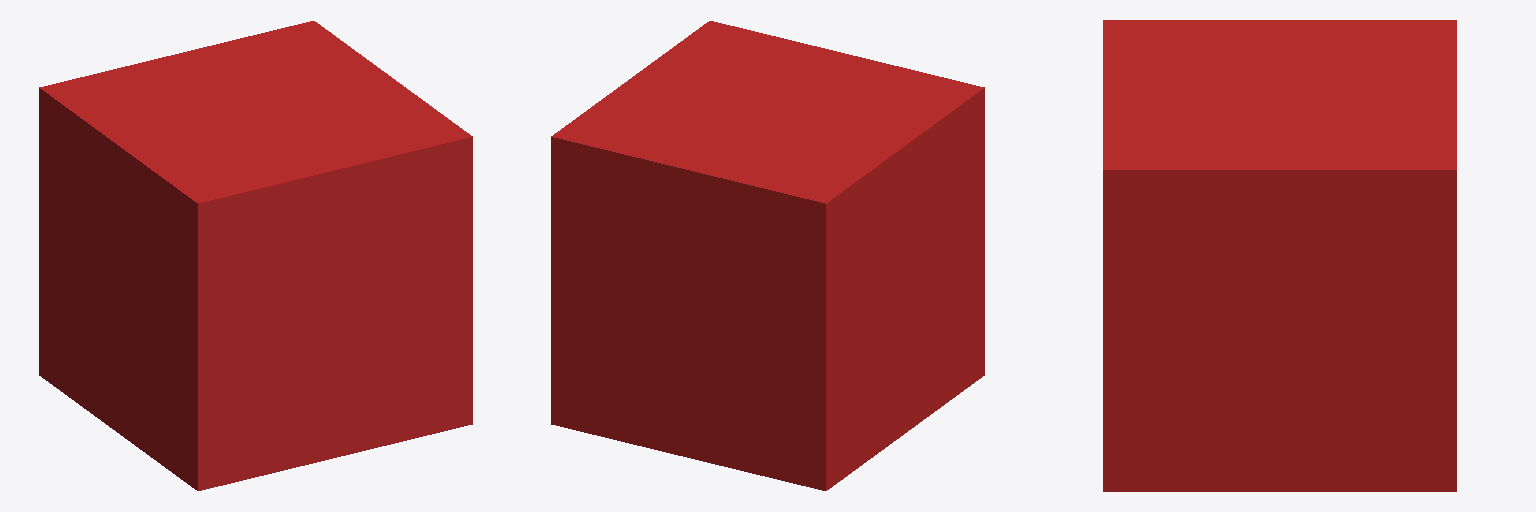
robot.urdf — box:
<?xml version="1.0" ?>
<robot name="box">
    <link name="boxLink">
        <visual>
            <origin rpy="0 0 0" xyz="0 0 0"/>
            <geometry>
                <box size="0.5 0.5 0.5"/>
            </geometry>
            <material name="red">
                <color rgba="0.8 0.2 0.2 1"/>
            </material>
        </visual>
        <collision>
            <origin rpy="0 0 0" xyz="0 0 0"/>
            <geometry>
                <box size="0.5 0.5 0.5"/>
            </geometry>
        </collision>
        <inertial>
            <origin rpy="0 0 0" xyz="0 0 0"/>
            <inertia ixx="0.000083" ixy="0" ixz="0" iyy="0.000083" iyz="0" izz="0.000083"/>
            <mass value="0.2"/>
        </inertial>
    </link>
</robot>

--- What the picture shows (computed from the rendered views, not written in the file) ---
3 views of the same robot in one strip: view 1: azimuth 30°, elevation 25°; view 2: azimuth 150°, elevation 25°; view 3: azimuth 270°, elevation 25° (orthographic).
Model box with 1 links and 0 joints (none), rooted at boxLink, posed all joints at 0.
Links seen in each view (by area): view 1: boxLink; view 2: boxLink; view 3: boxLink.
Boxes of the visible links, x1,y1,x2,y2 form: boxLink: (39, 21, 472, 490); boxLink: (551, 21, 984, 490); boxLink: (1103, 20, 1456, 491).
Size in the robot's own frame: 0.5 by 0.5 by 0.5 metres.
Geometry: primitives only (box / cylinder / sphere), no mesh files.